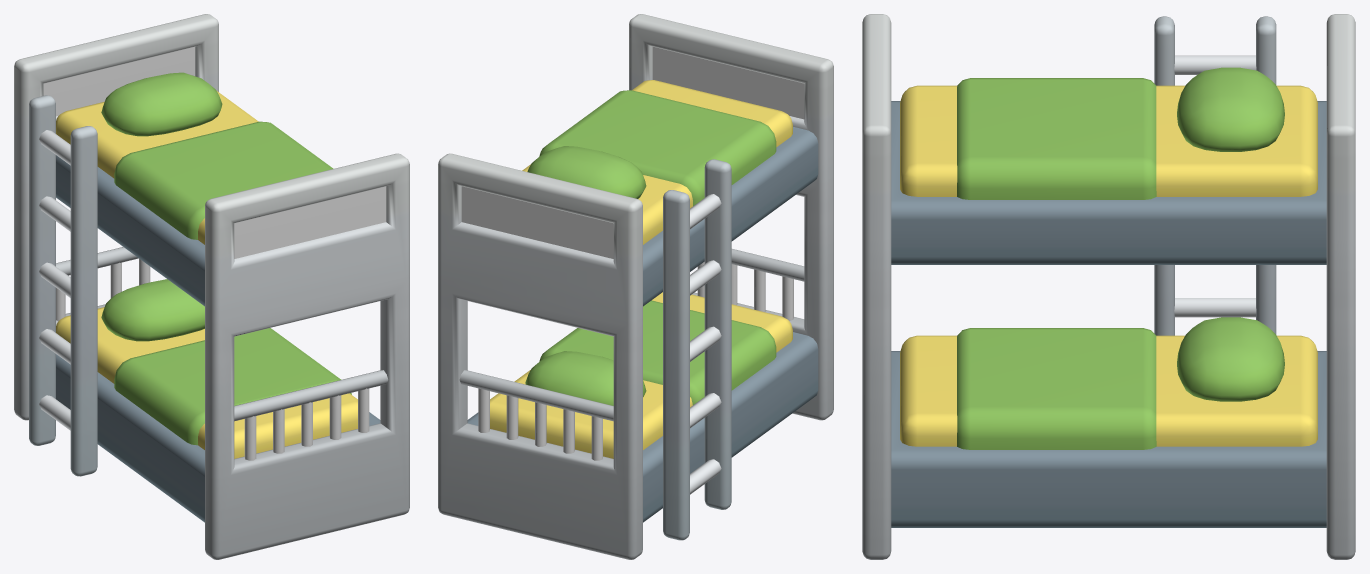
Rendered from Bed_11.glb.
The picture shows the model from 3 angles, left to right: view 1: azimuth 30°, elevation 25°; view 2: azimuth 150°, elevation 25°; view 3: azimuth 270°, elevation 25°; orthographic projection. The views are drawn at different scales.
Parts seen in each view (by area): view 1: Bed_11; view 2: Bed_11; view 3: Bed_11.
Boxes of the visible parts, x1,y1,x2,y2 form: Bed_11: [14, 14, 409, 559]; Bed_11: [438, 14, 833, 559]; Bed_11: [862, 14, 1355, 559].
Size of the model in its own units: 1.05 by 1.65 by 1.7.
Materials: 1 (1 with a texture image).
